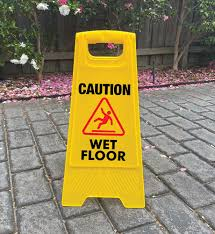wet caution sign: (60, 25, 148, 227)
